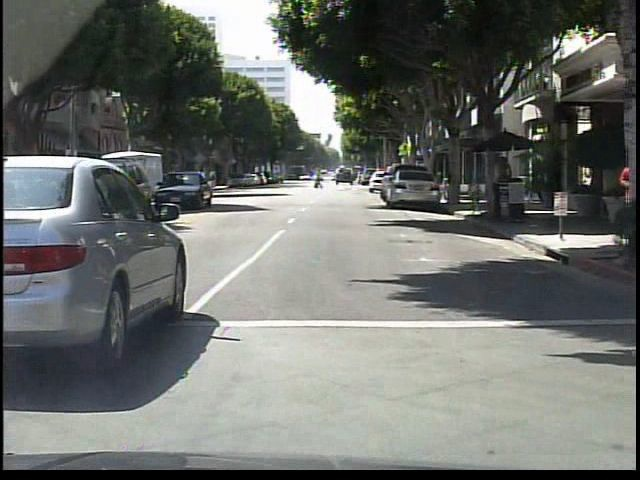person: (494, 156, 516, 225), (610, 162, 629, 236), (313, 171, 324, 191)
